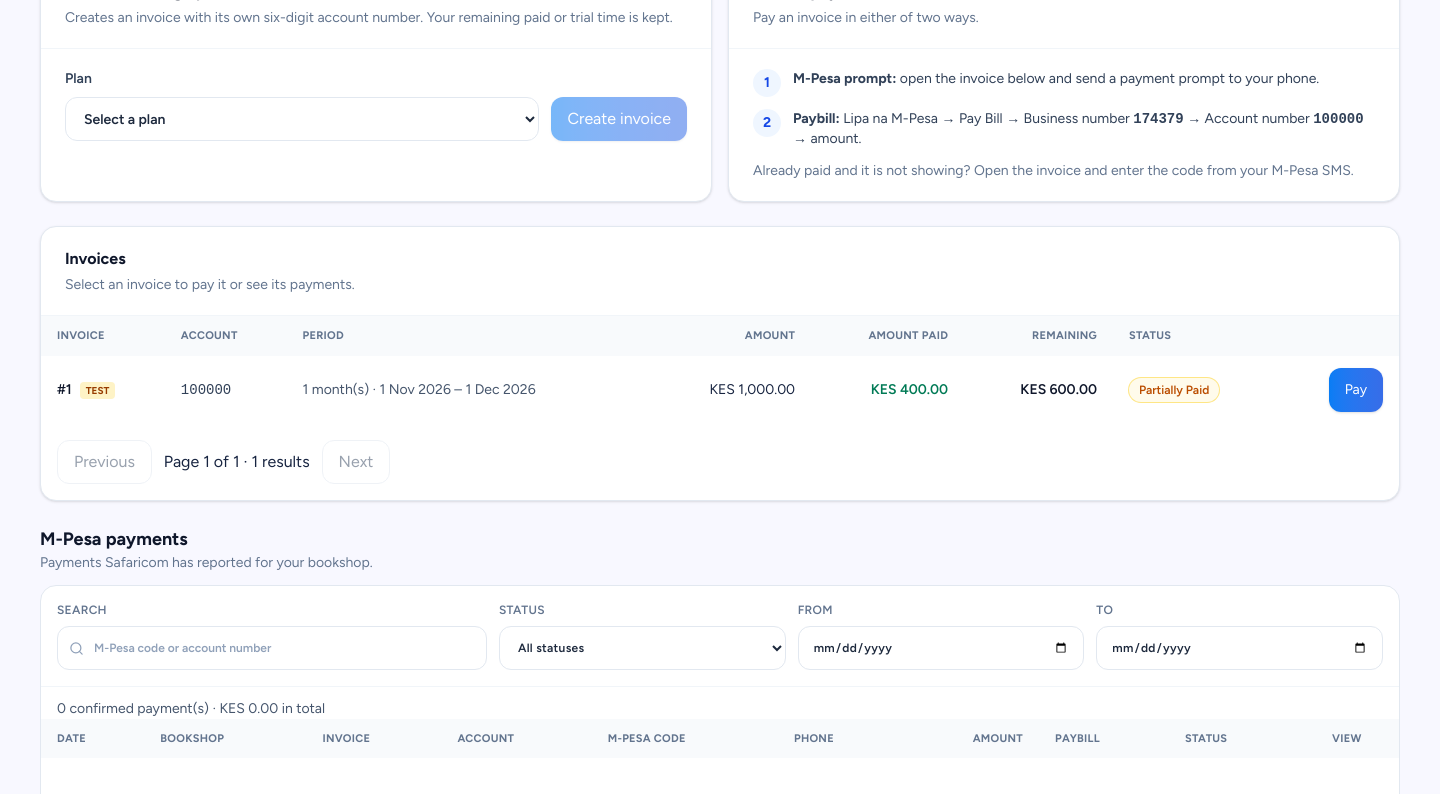
Test: subscription billing › shows sandbox restrictions and sends an invoice-scoped partial STK request
Later steps or results of the test are not shown.
(page scrolled)
Click the button with aria-label "Pay invoice #1 / 100000".
click(1356, 390)  # box [1329, 368, 1383, 412]
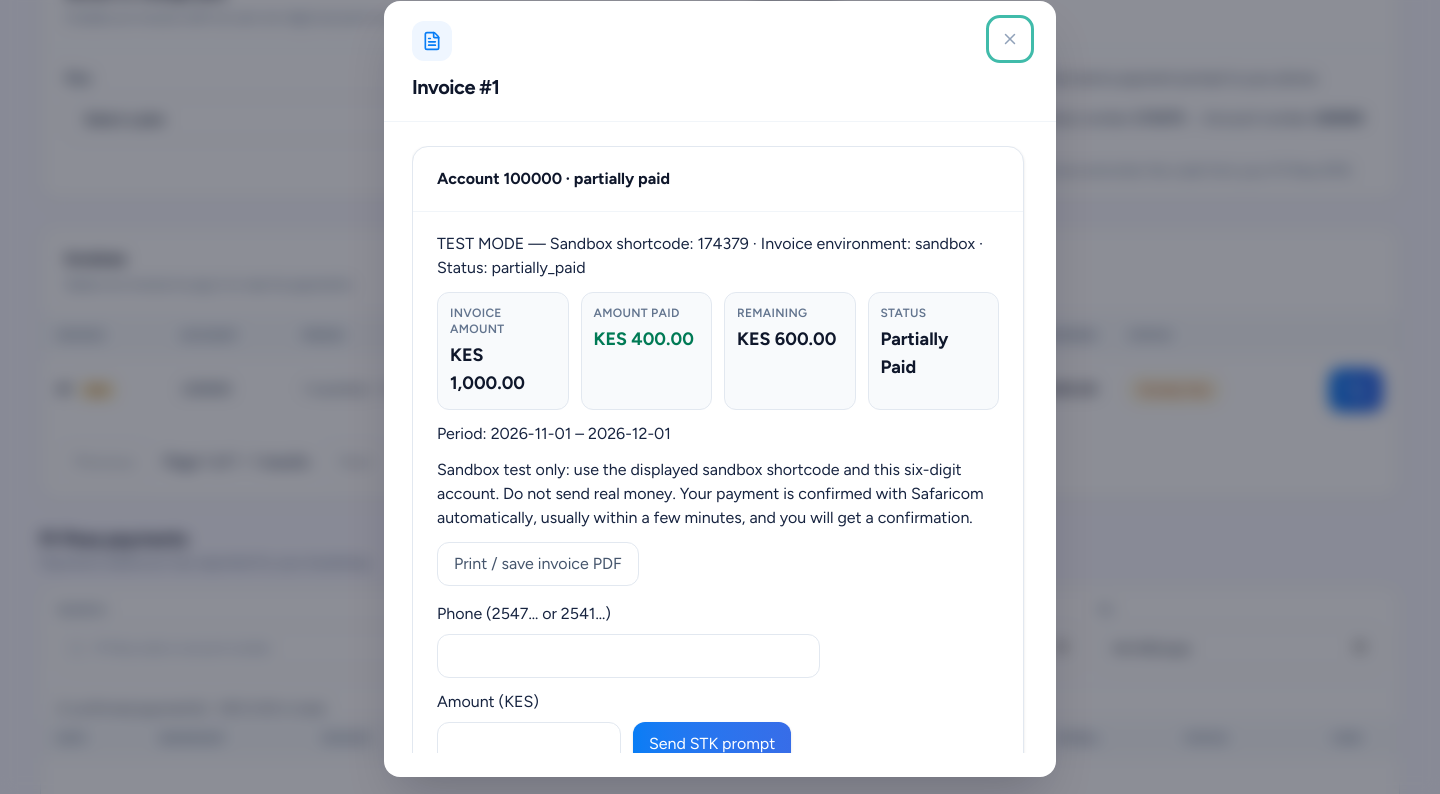
Now the text "TEST MODE — Sandbox shortcode: 174379" is shown, box [437, 232, 999, 280]
